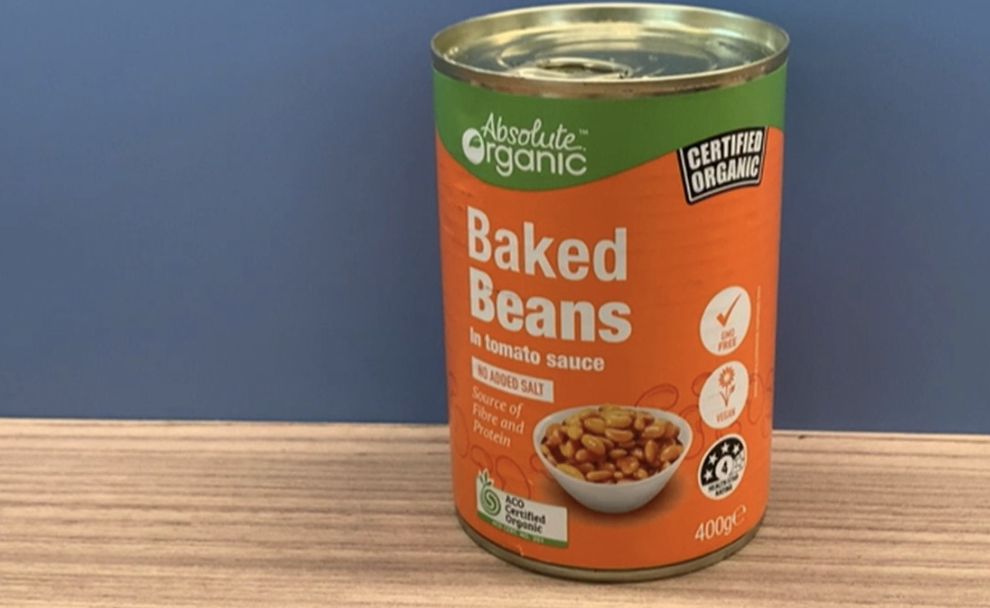Baked beans_450g: (447, 77, 765, 549)
